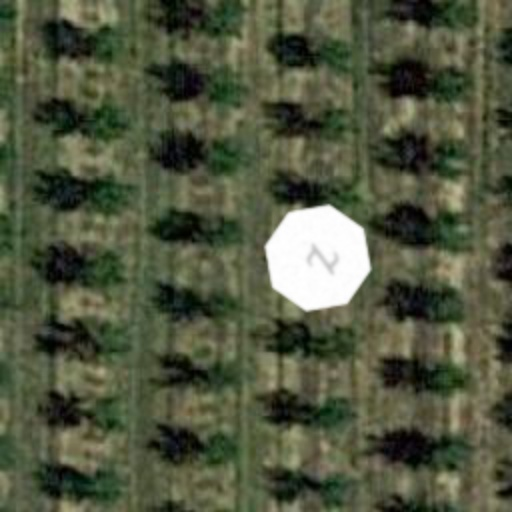octagon: (252, 192, 384, 324)
